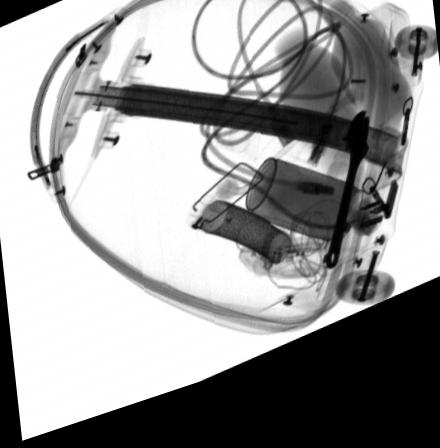Wrench: (326, 133, 370, 289)
